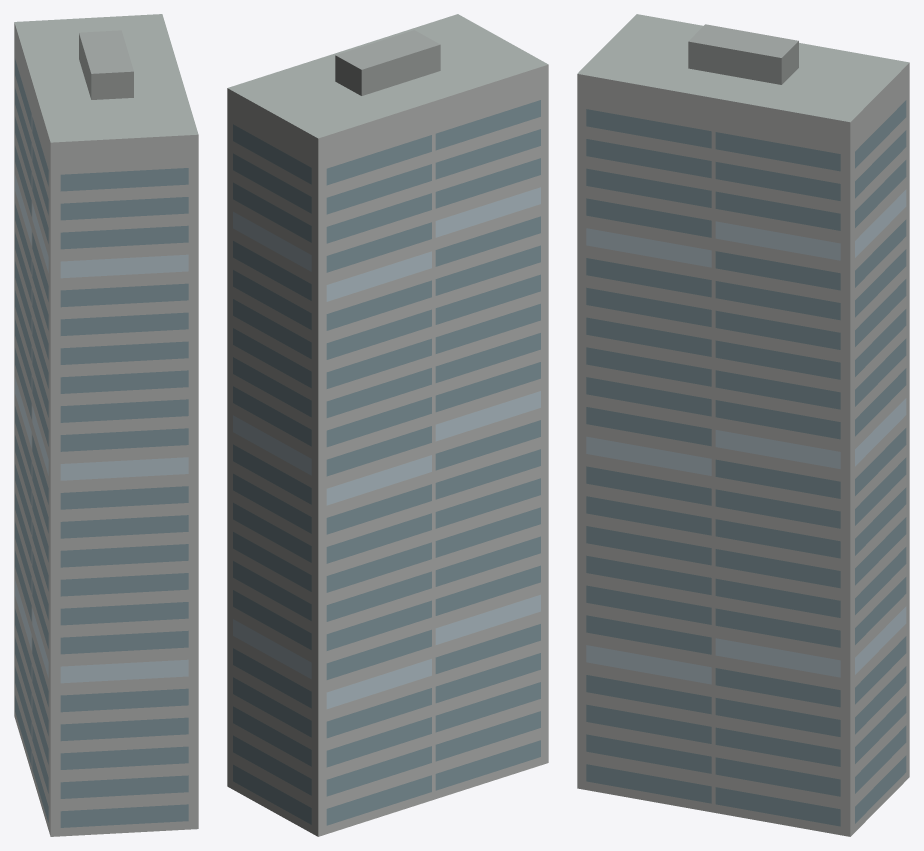
The model's file is fallback-jamsil-els-123.glb.
3 renders of one model, left to right at view 1: azimuth 30°, elevation 25°; view 2: azimuth 150°, elevation 25°; view 3: azimuth 270°, elevation 25°, orthographic. The views are drawn at different scales.
Visible parts, largest first — view 1: fallback-jamsil-els-123; view 2: fallback-jamsil-els-123; view 3: fallback-jamsil-els-123.
Boxes of the visible parts, <box> form: fallback-jamsil-els-123: <box>14,14,198,836</box>; fallback-jamsil-els-123: <box>227,14,548,836</box>; fallback-jamsil-els-123: <box>577,14,909,836</box>.
Size of the model in its own units: 20.67 by 66 by 26.83.
